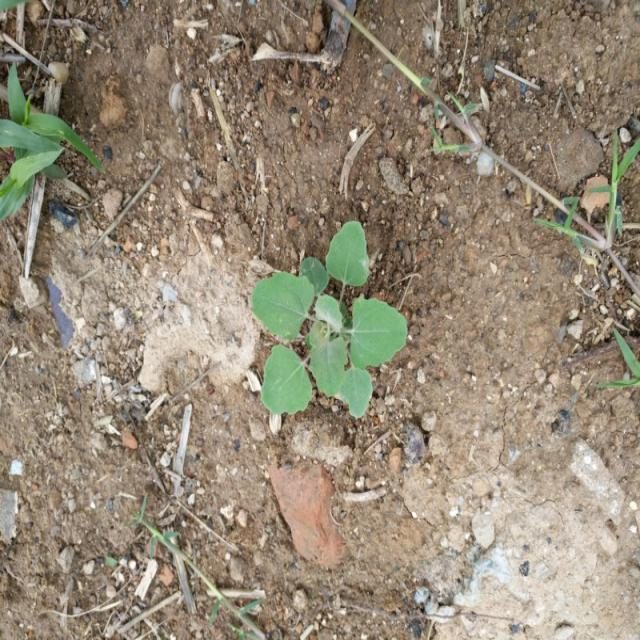ca: (252, 224, 408, 416)
